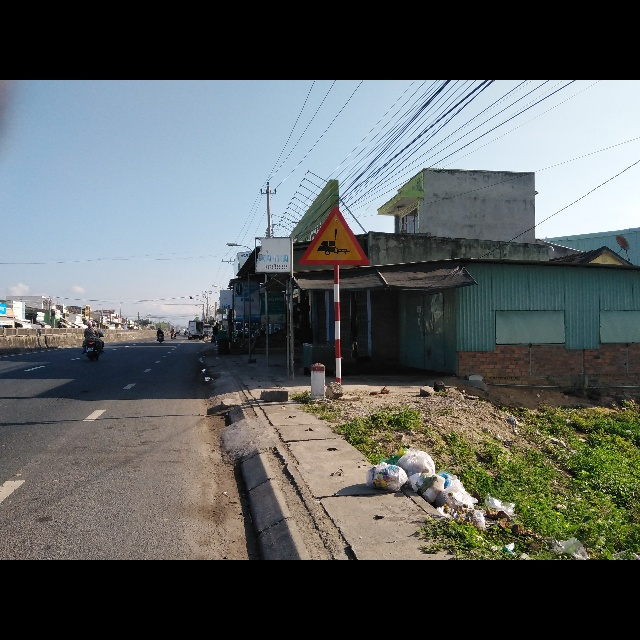Đoạn đường hay xảy ra tai nạn: (298, 207, 372, 267)
